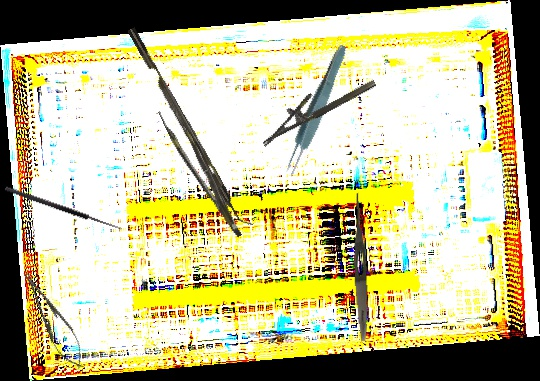Chopper: (127, 21, 256, 233)
Dressing Forceps: (349, 191, 371, 342)
Hook Surgical: (4, 180, 125, 232)
Needle Holder: (252, 64, 378, 147), (14, 265, 93, 375)
Tissue Forceps: (158, 101, 242, 246), (279, 41, 352, 180)
